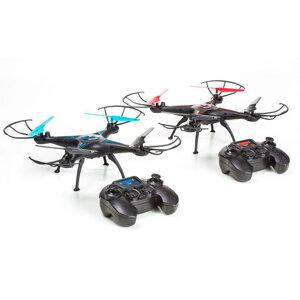drone: (1, 103, 178, 174), (119, 80, 294, 140)
